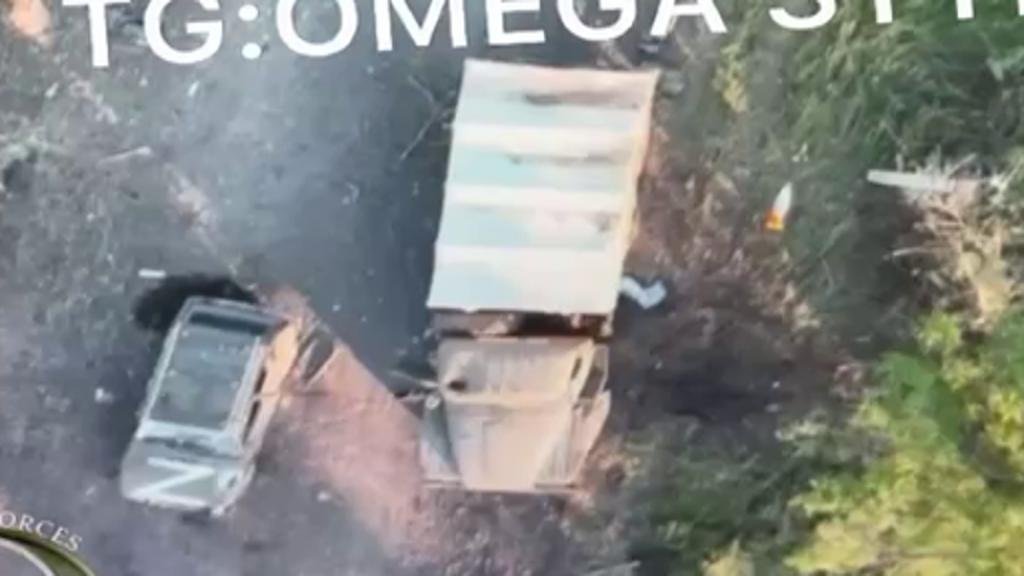CAR: (108, 288, 302, 513)
TRUCK: (410, 53, 660, 498)
